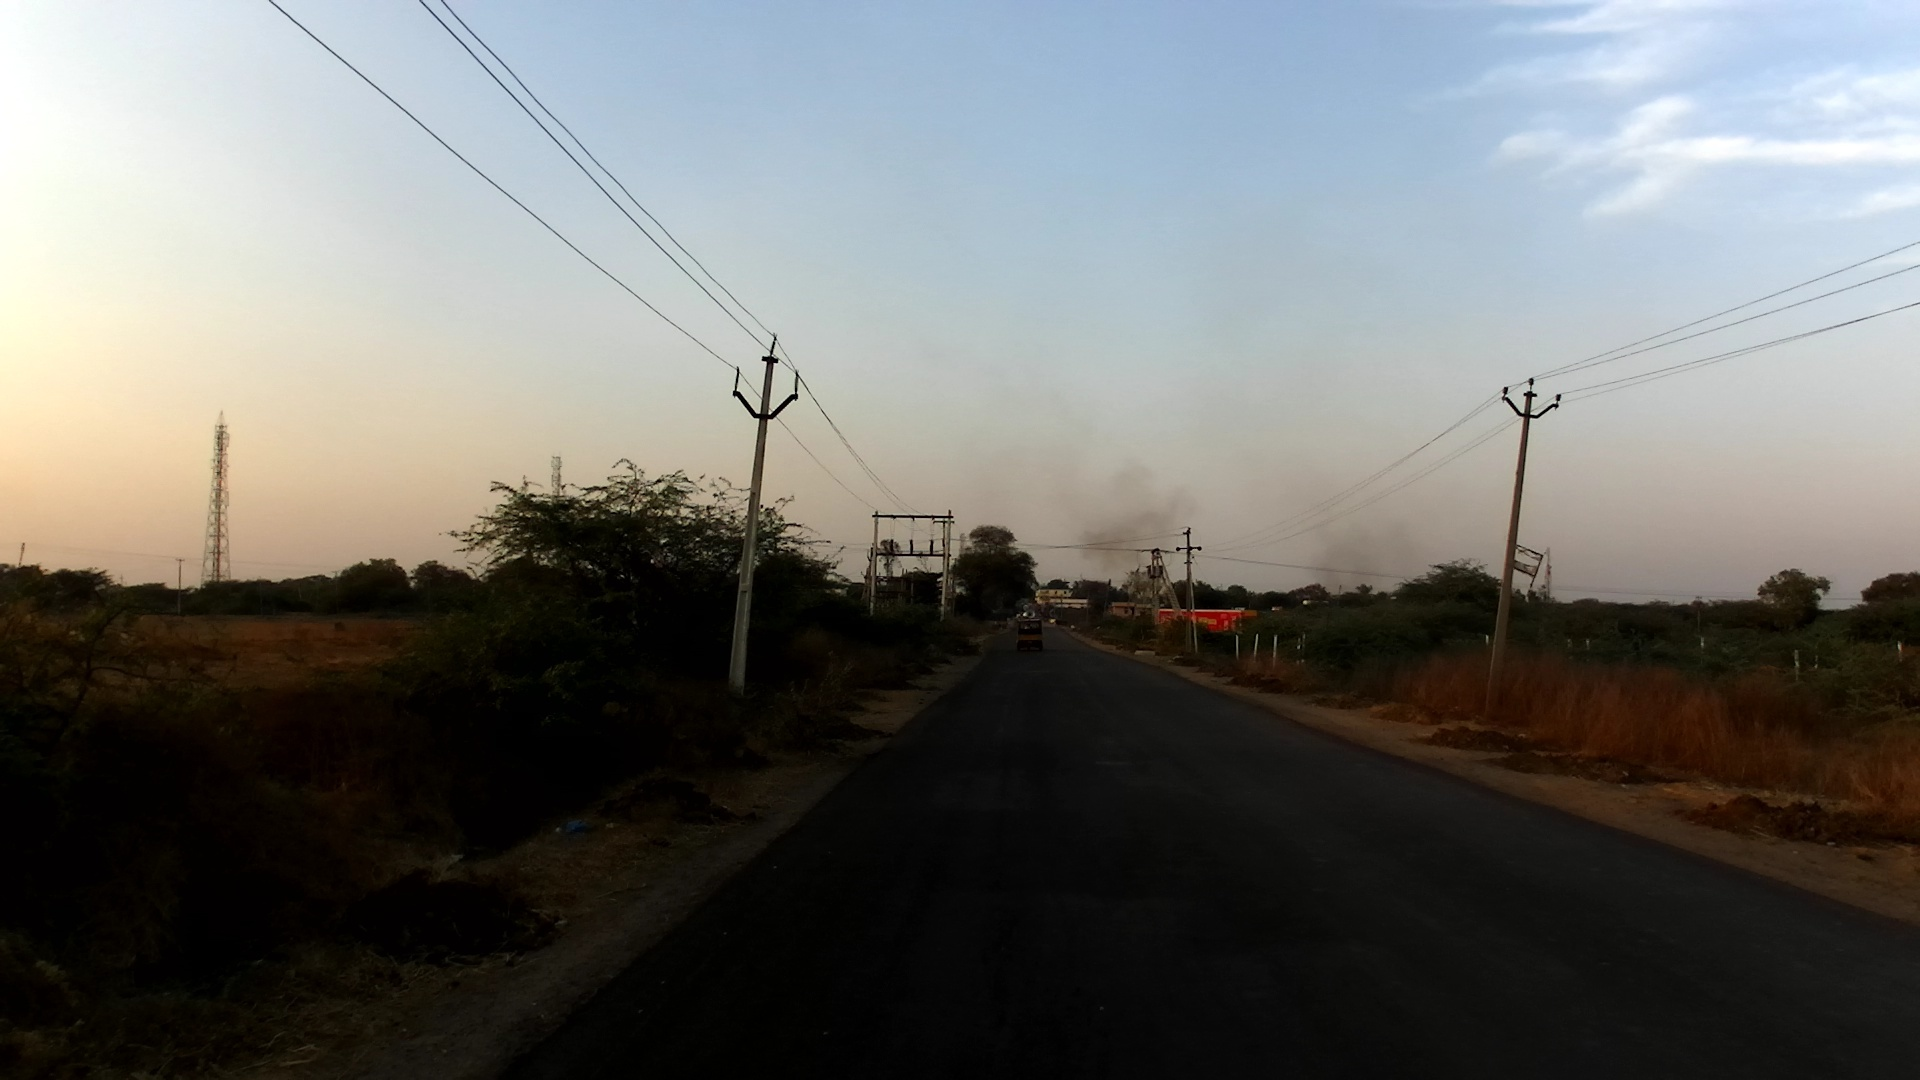car: (1014, 605, 1050, 655)
